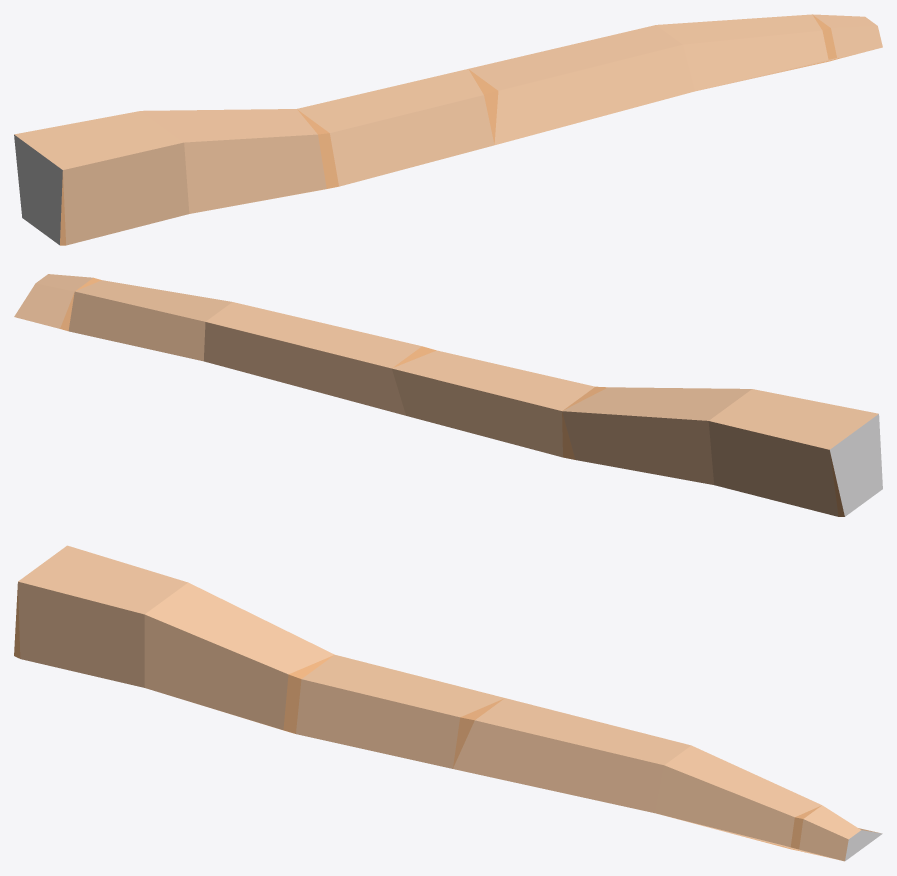
The model's file is parsnip03.obj.
3 views of the same model, one above another, from view 1: azimuth 30°, elevation 25°; view 2: azimuth 150°, elevation 25°; view 3: azimuth 330°, elevation 25° (orthographic).
Visible parts, largest first — view 1: Cylinder.001; view 2: Cylinder.001; view 3: Cylinder.001.
Part boxes in pixels (x1=…): Cylinder.001: x1=14, y1=14, x2=882, y2=245; Cylinder.001: x1=14, y1=274, x2=882, y2=516; Cylinder.001: x1=14, y1=545, x2=882, y2=861.
Bounding box in the file's own units: 0.113 × 0.0109 × 0.0117.
Materials: 1 (1 with a texture image).
